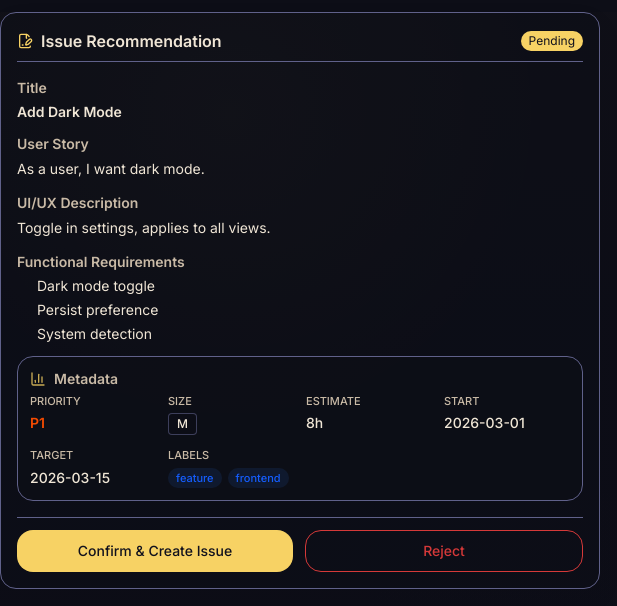
Test: IssueRecommendationPreview › shows the resolved auto-model name after issue creation succeeds
Click the button "Confirm & Create Issue".
click(155, 551)  # box [17,530,293,572]
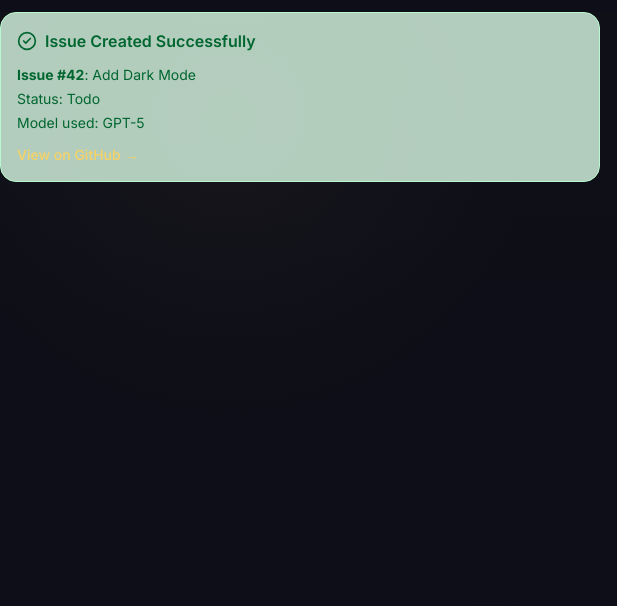
Expected: the text "Model used: GPT-5" is shown, [17,114,145,131]
